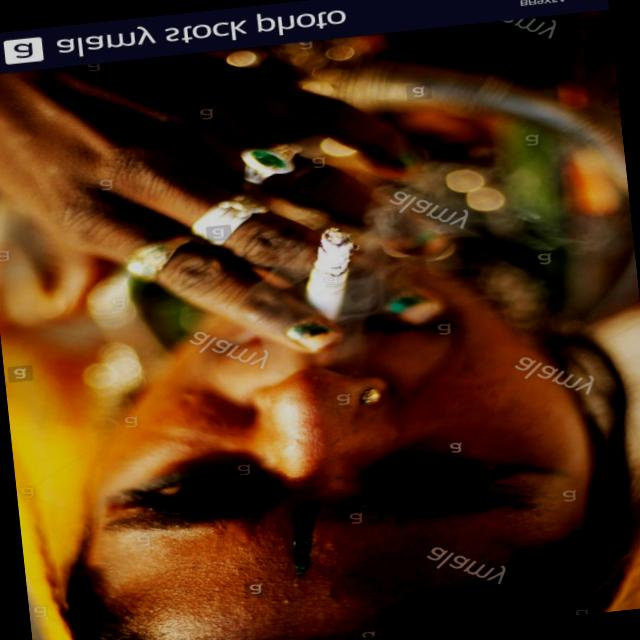smoke: (261, 200, 390, 347)
